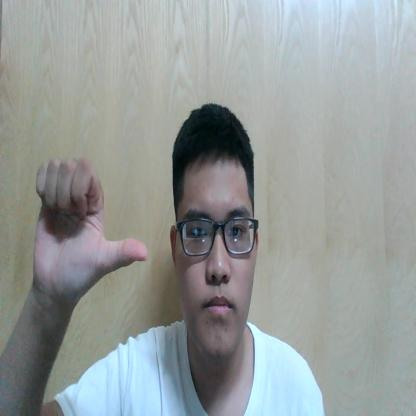left: (31, 154, 148, 294)
